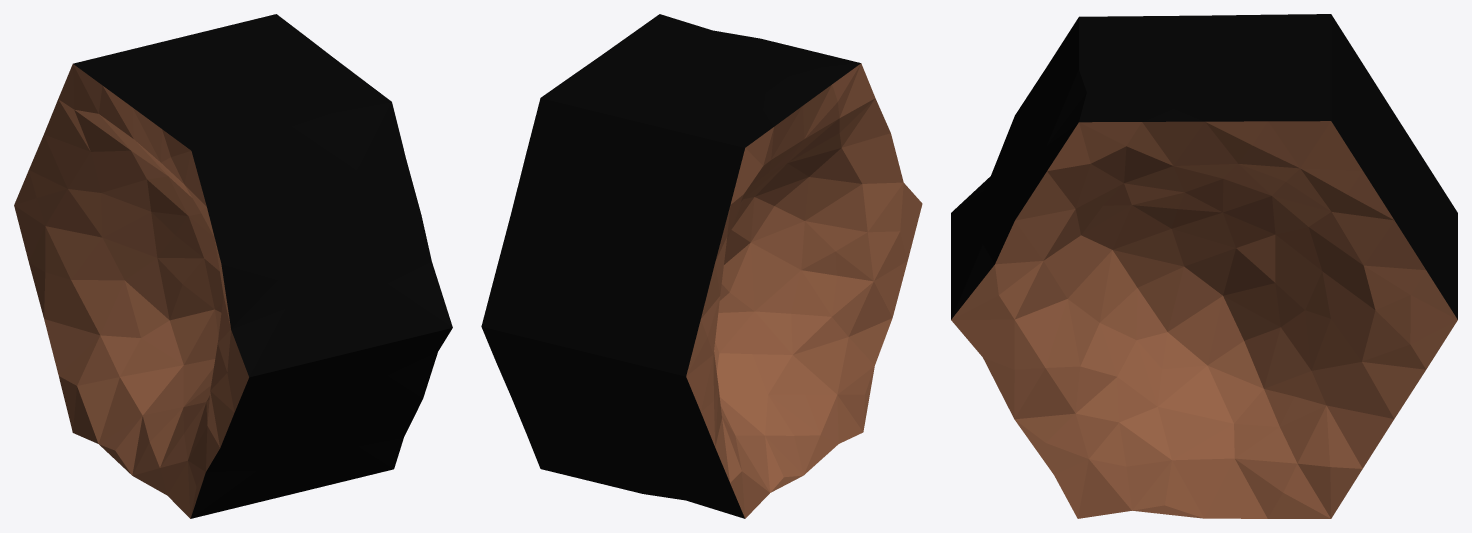
File: TunnelBlocker.fbx
3 renders of one model, left to right at view 1: azimuth 30°, elevation 25°; view 2: azimuth 150°, elevation 25°; view 3: azimuth 270°, elevation 25°, orthographic. The views are drawn at different scales.
Parts seen in each view (by area): view 1: TunnelBlocker; view 2: TunnelBlocker; view 3: TunnelBlocker.
Part boxes in pixels (x1,y1,x2,y2): TunnelBlocker: (14, 14, 452, 518); TunnelBlocker: (481, 14, 922, 518); TunnelBlocker: (951, 14, 1457, 518).
Bounding box in the file's own units: 325 × 562 × 649.
